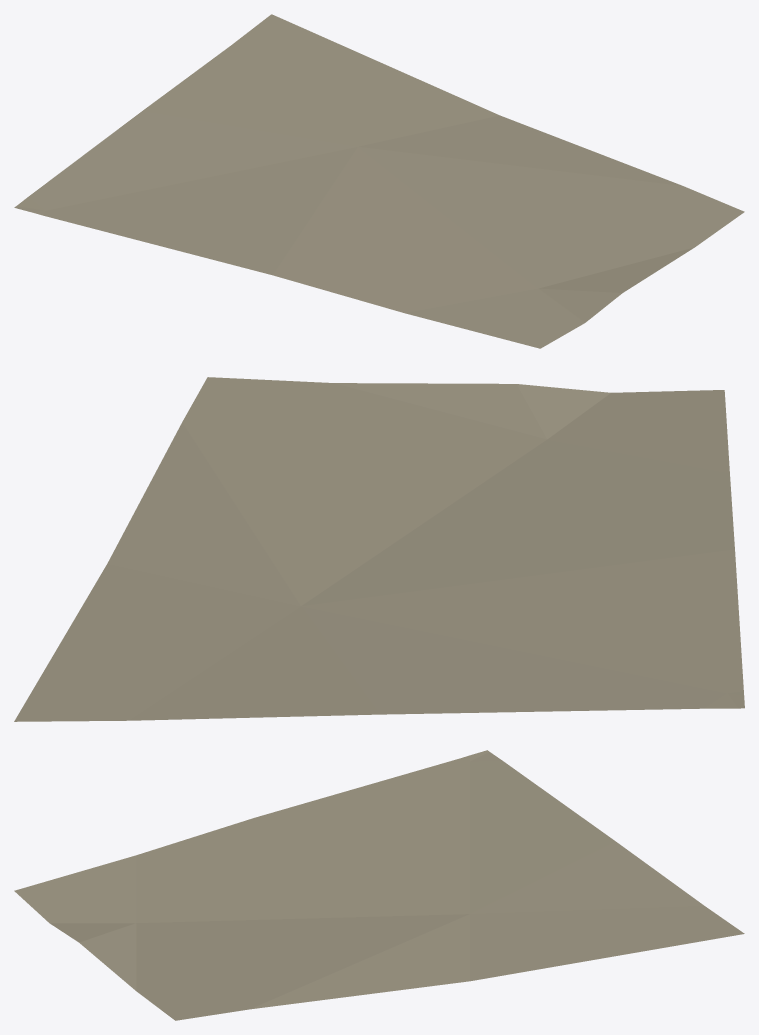
The model's file is farm_1_5_soil.glb.
3 renders of one model, top to bottom at view 1: azimuth 30°, elevation 25°; view 2: azimuth 150°, elevation 25°; view 3: azimuth 270°, elevation 25°, orthographic. The views are drawn at different scales.
Parts seen in each view (by area): view 1: geometry_0; view 2: geometry_0; view 3: geometry_0.
Part boxes in pixels (x1=…): geometry_0: x1=14, y1=14, x2=744, y2=348; geometry_0: x1=14, y1=377, x2=744, y2=721; geometry_0: x1=14, y1=750, x2=744, y2=1020.
Size of the model in its own units: 144 by 5.8 by 175.
